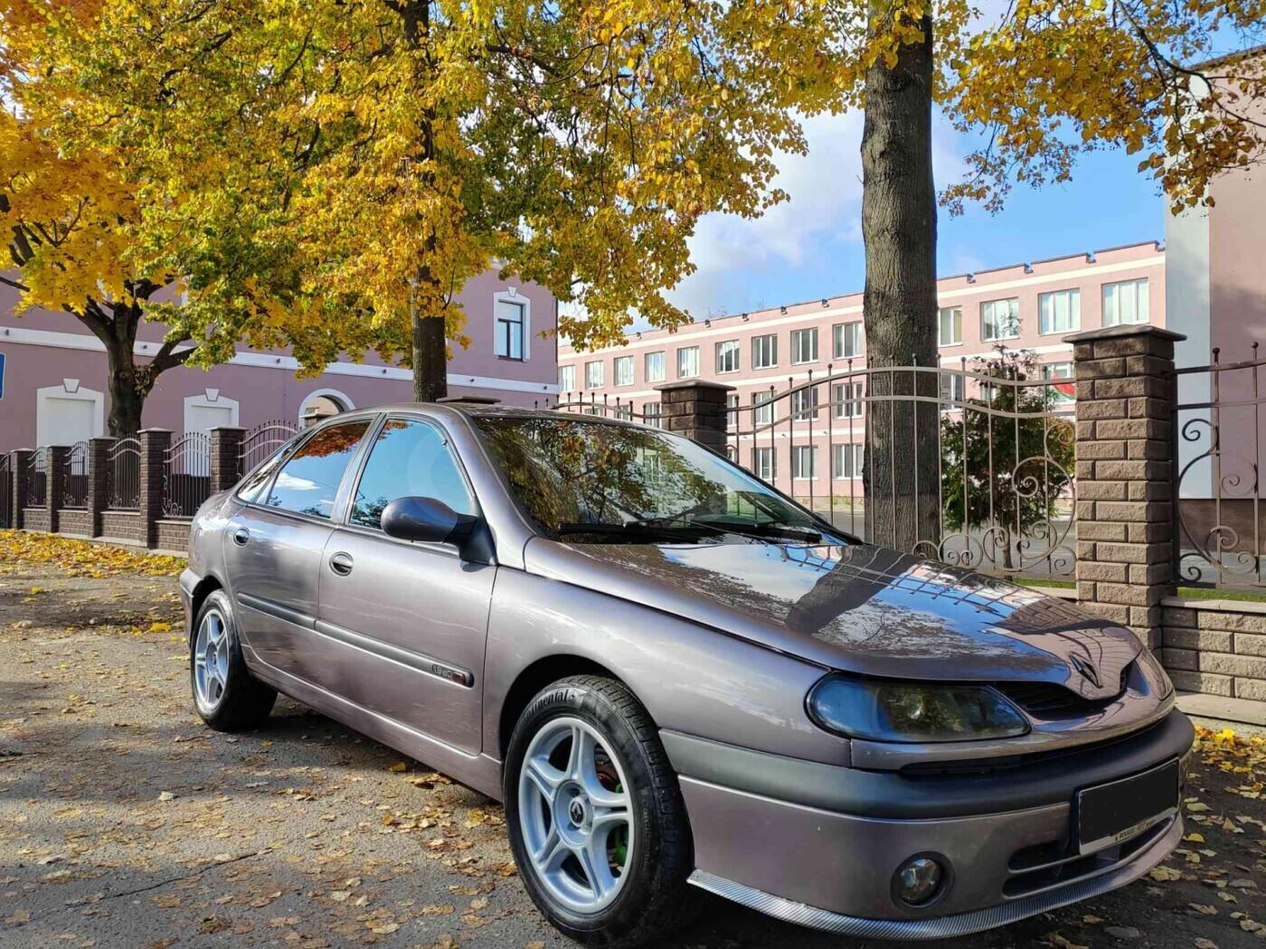Laguna_1998-2001: (178, 400, 1198, 949)
